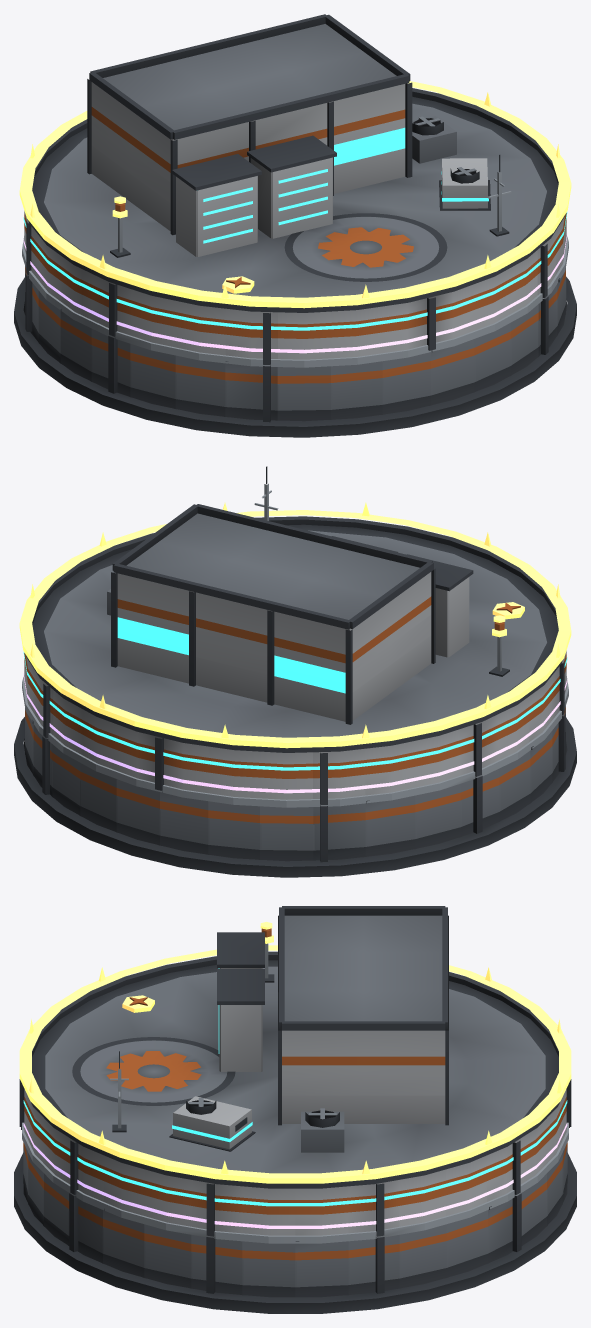
Rendered from battery_plant_s_far.glb.
3 renders of one model, top to bottom at view 1: azimuth 30°, elevation 25°; view 2: azimuth 150°, elevation 25°; view 3: azimuth 270°, elevation 25°, orthographic.
Parts seen in each view (by area): view 1: Roof, Base, L5, L2, L3, L4; view 2: Roof, Base, L5, L2, L4, L3; view 3: Roof, Base, L5, L3, L2, L4.
Boxes of the visible parts, bbox=[...] form: Roof: bbox=[24, 14, 566, 364]; Base: bbox=[14, 266, 576, 437]; L5: bbox=[19, 81, 571, 308]; L2: bbox=[22, 155, 568, 367]; L3: bbox=[23, 158, 567, 330]; L4: bbox=[23, 233, 567, 353]; Roof: bbox=[24, 504, 566, 804]; Base: bbox=[14, 706, 576, 877]; L5: bbox=[19, 502, 571, 748]; L2: bbox=[22, 466, 568, 807]; L4: bbox=[23, 673, 567, 793]; L3: bbox=[23, 652, 567, 770]; Roof: bbox=[19, 906, 571, 1236]; Base: bbox=[14, 1127, 576, 1313]; L5: bbox=[19, 922, 571, 1183]; L3: bbox=[23, 1096, 567, 1206]; L2: bbox=[22, 1051, 568, 1243]; L4: bbox=[23, 1123, 567, 1228].
Size of the model in its own units: 11.74 by 5.16 by 11.74.
